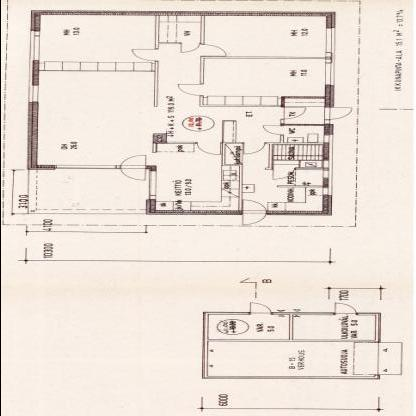door: (118, 153, 149, 182), (239, 197, 267, 227), (194, 140, 226, 158), (270, 163, 302, 181), (129, 45, 160, 63), (321, 106, 353, 122), (196, 42, 228, 57), (176, 81, 205, 97), (274, 107, 306, 121), (240, 141, 268, 156), (331, 302, 359, 316), (177, 39, 200, 55), (246, 302, 272, 316), (260, 123, 285, 137)
window: (50, 162, 122, 172), (142, 169, 159, 201), (321, 26, 337, 56), (28, 29, 42, 62), (320, 60, 338, 85), (25, 82, 44, 104), (320, 159, 333, 169), (319, 170, 331, 180), (321, 132, 331, 144), (319, 188, 333, 196)
